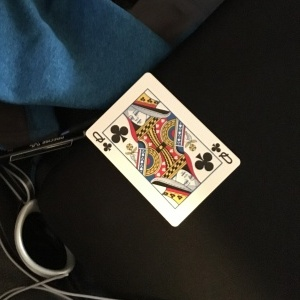card: (85, 72, 242, 228)
